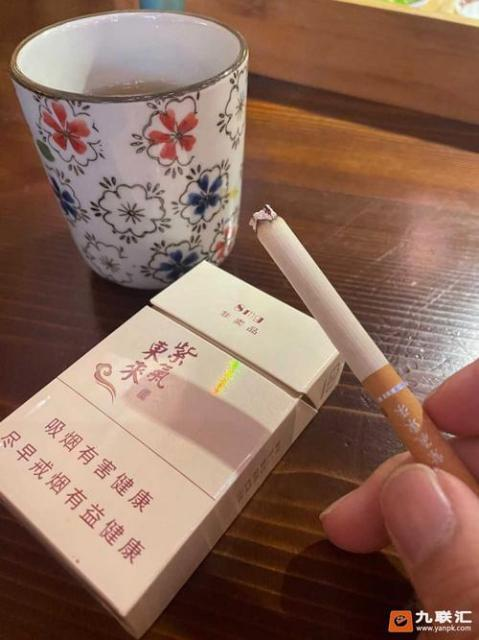Smoking: (250, 202, 479, 527)
